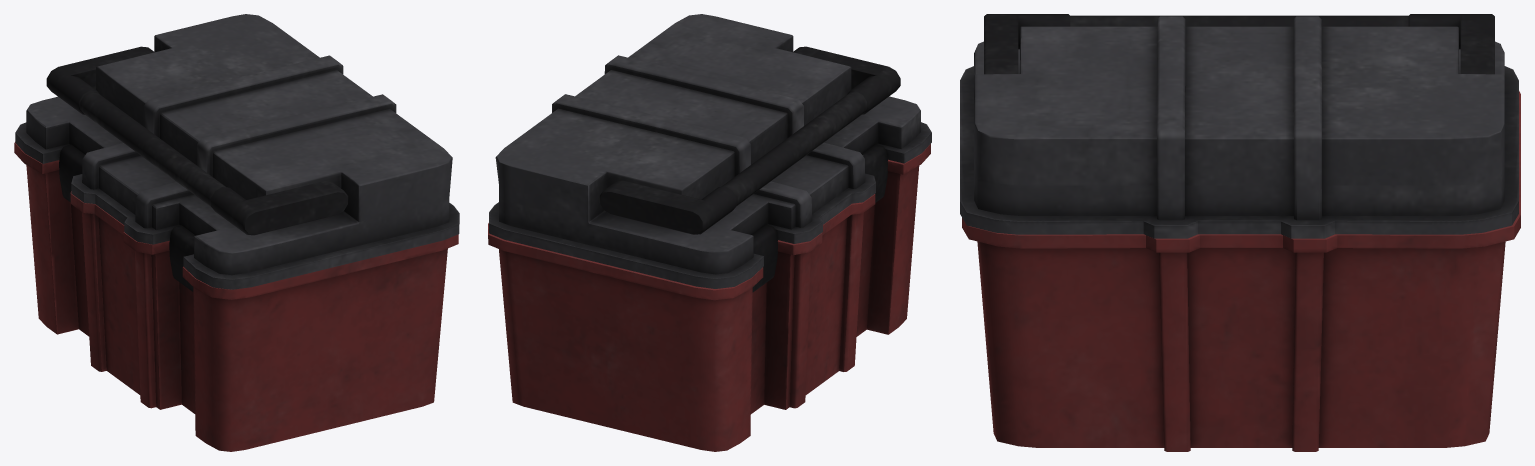
File: Plastic Container 3.fbx
The picture shows the model from 3 angles, left to right: view 1: azimuth 30°, elevation 25°; view 2: azimuth 150°, elevation 25°; view 3: azimuth 270°, elevation 25°; orthographic projection. The views are drawn at different scales.
Visible parts, largest first — view 1: plastic_container_3_Top_Base, plastic_container_3_Base2, plastic_container_3_Top_Handle, plastic_container_3_Top; view 2: plastic_container_3_Top_Base, plastic_container_3_Base2, plastic_container_3_Top_Handle, plastic_container_3_Top; view 3: plastic_container_3_Top_Base, plastic_container_3_Base2, plastic_container_3_Top_Handle.
Boxes of the visible parts, x1,y1,x2,y2 form: plastic_container_3_Top_Base: (15, 14, 459, 289); plastic_container_3_Base2: (14, 142, 458, 451); plastic_container_3_Top_Handle: (46, 46, 348, 235); plastic_container_3_Top: (59, 144, 195, 291); plastic_container_3_Top_Base: (489, 14, 931, 288); plastic_container_3_Base2: (488, 144, 930, 451); plastic_container_3_Top_Handle: (599, 46, 900, 234); plastic_container_3_Top: (752, 144, 887, 292); plastic_container_3_Top_Base: (960, 16, 1518, 238); plastic_container_3_Base2: (962, 91, 1520, 451); plastic_container_3_Top_Handle: (984, 14, 1494, 74).
Size of the model in its own units: 42 by 37.31 by 58.45.
Materials: 1 (1 with a texture image).
